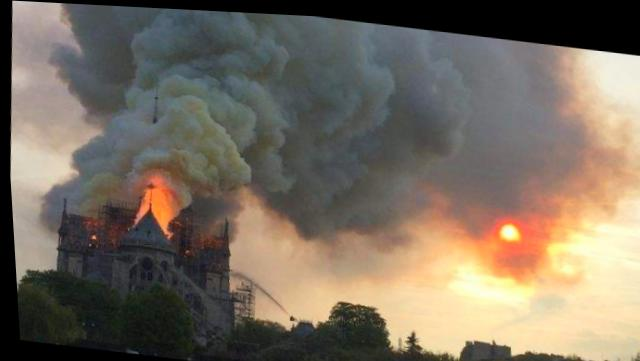fire: (123, 162, 180, 237)
